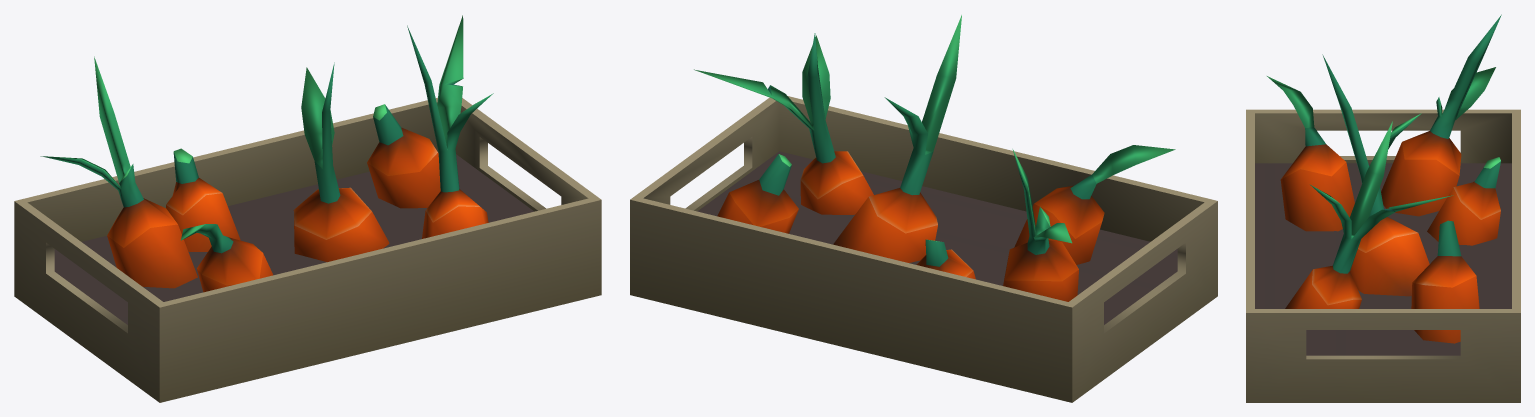
File: TSP_Store_Box_03A.fbx
3 views of the same model, side by side, from view 1: azimuth 30°, elevation 25°; view 2: azimuth 150°, elevation 25°; view 3: azimuth 270°, elevation 25° (orthographic). The views are drawn at different scales.
Visible parts, largest first — view 1: TSP_Store_Box_03A; view 2: TSP_Store_Box_03A; view 3: TSP_Store_Box_03A.
Part boxes in pixels (x1=…): TSP_Store_Box_03A: x1=14, y1=15, x2=601, y2=402; TSP_Store_Box_03A: x1=630, y1=15, x2=1217, y2=402; TSP_Store_Box_03A: x1=1246, y1=14, x2=1520, y2=402.
Size of the model in its own units: 0.6356 by 0.3563 by 0.3627.
